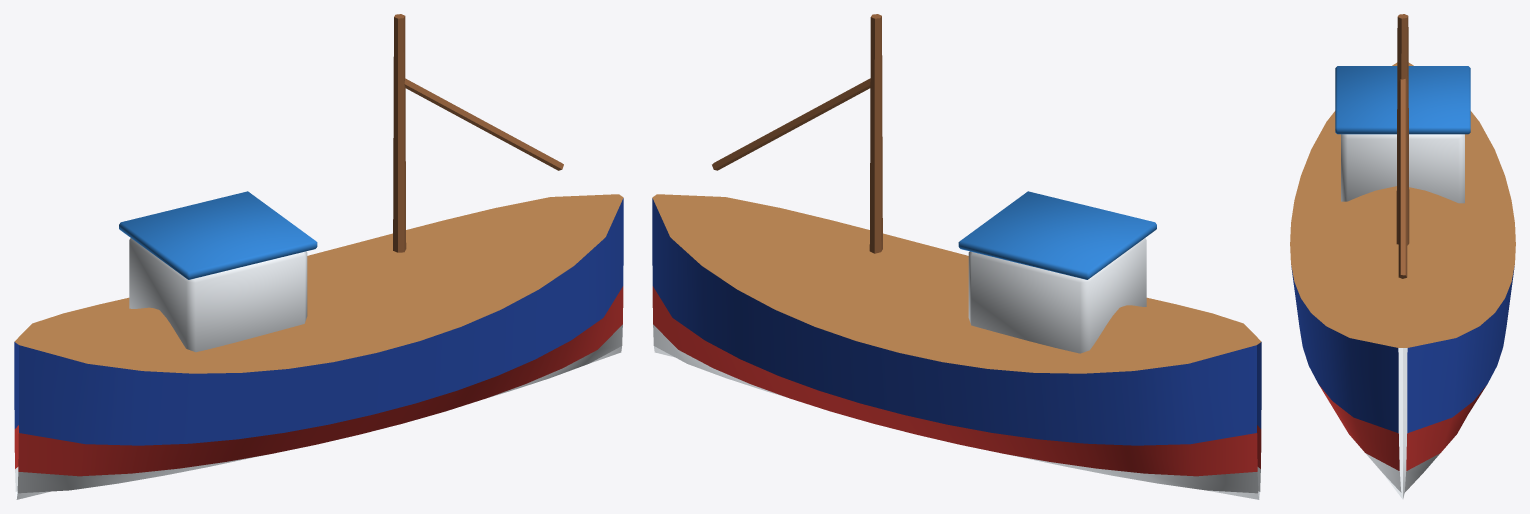
The model's file is Caique.fbx.
3 views of the same model, side by side, from view 1: azimuth 30°, elevation 25°; view 2: azimuth 150°, elevation 25°; view 3: azimuth 270°, elevation 25° (orthographic). The views are drawn at different scales.
Visible parts, largest first — view 1: Caique; view 2: Caique; view 3: Caique.
Part boxes in pixels (<box>): Caique: <box>14,14,623,499</box>; Caique: <box>652,14,1261,499</box>; Caique: <box>1290,14,1515,499</box>.
Size of the model in its own units: 6 by 3.7 by 2.
Materials: 1 (1 with a texture image).
